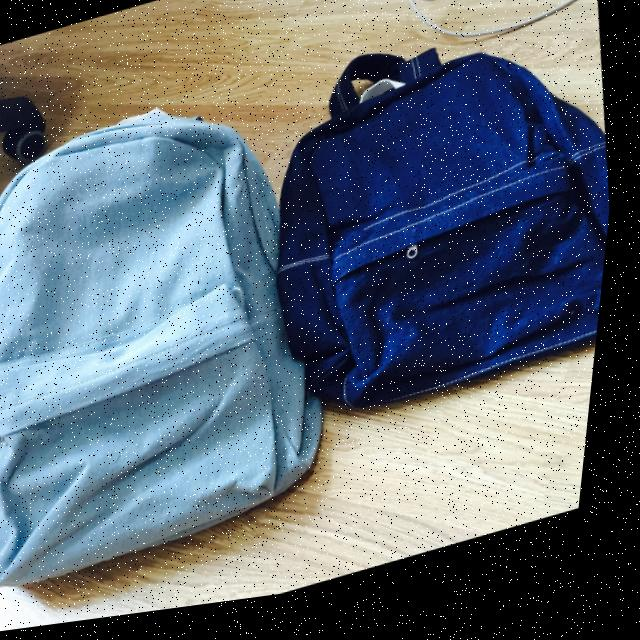backpack: (0, 58, 380, 606)
